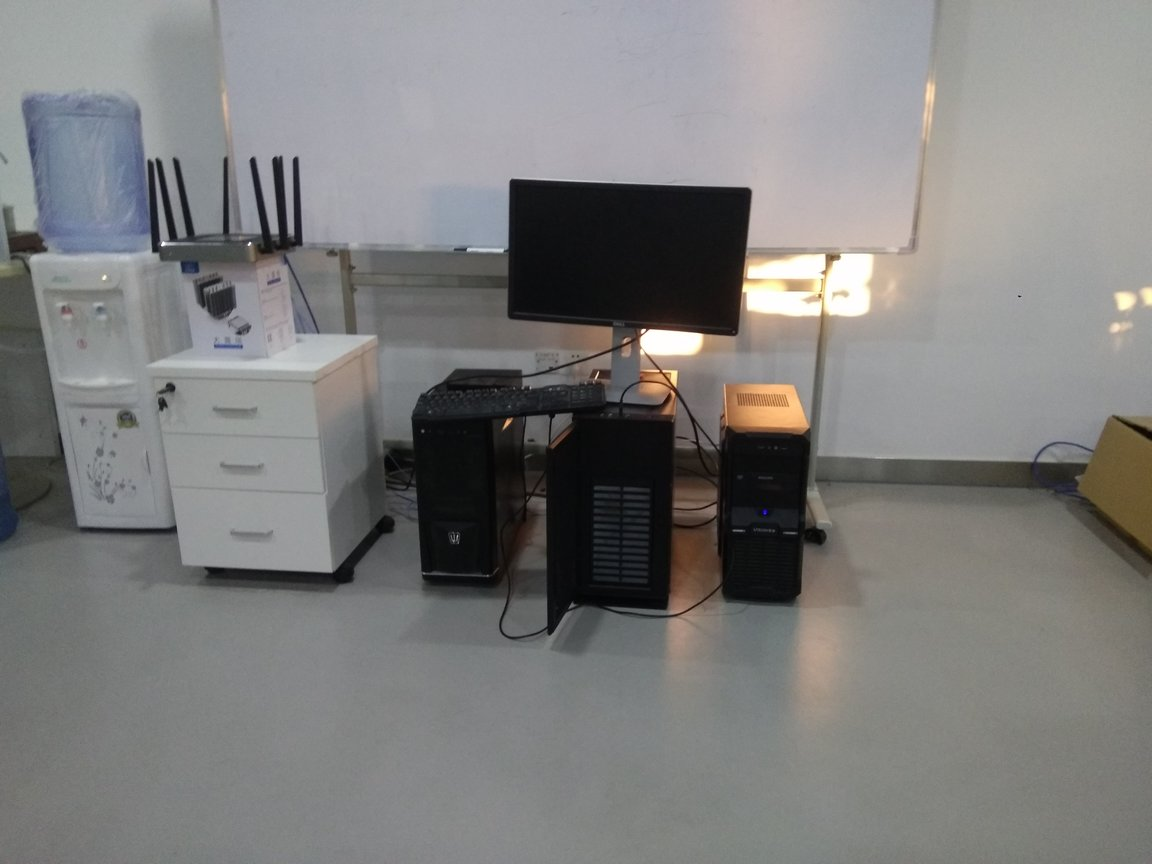computer: (552, 363, 686, 645), (414, 365, 532, 596), (716, 381, 811, 613)
drawer chest: (150, 332, 390, 589)
monitor: (504, 174, 758, 413)
scuttlebutt: (18, 90, 166, 259)
water dispenser: (25, 247, 194, 545)
